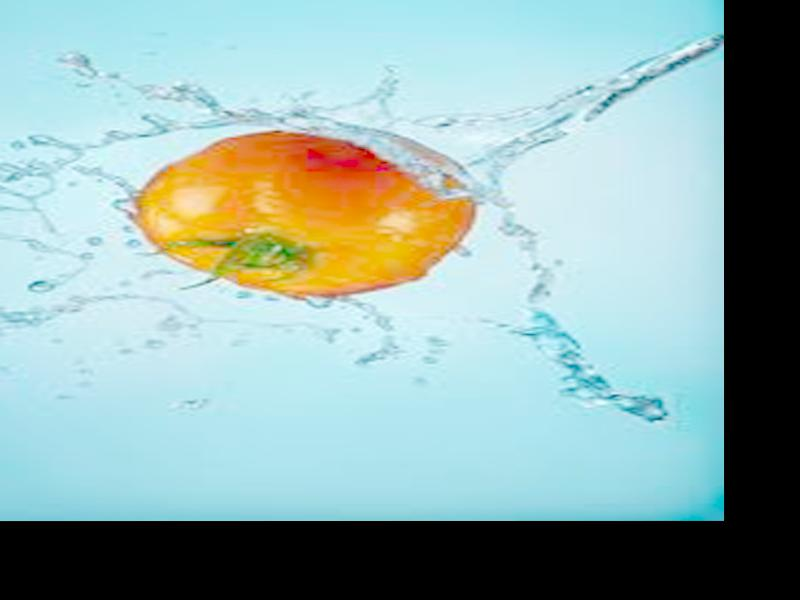Tomato: (132, 127, 475, 295)
